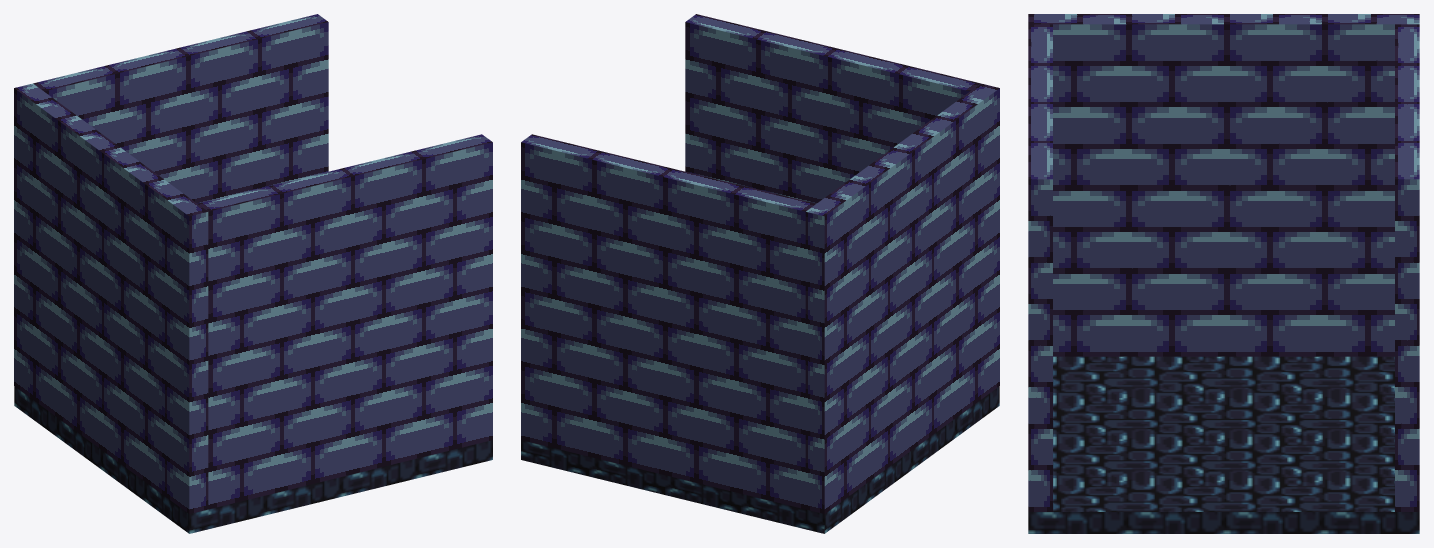
File: end.obj
3 renders of one model, left to right at view 1: azimuth 30°, elevation 25°; view 2: azimuth 150°, elevation 25°; view 3: azimuth 270°, elevation 25°, orthographic. The views are drawn at different scales.
Parts seen in each view (by area): view 1: wall, floor; view 2: wall, floor; view 3: wall, floor.
Part boxes in pixels (box(x1,y1,x2,y2)): wall: box(14, 14, 492, 513); floor: box(14, 386, 492, 533); wall: box(521, 14, 999, 513); floor: box(521, 386, 999, 533); wall: box(1028, 14, 1419, 511); floor: box(1028, 356, 1419, 533).
Size of the model in its own units: 16.01 by 16 by 16.
Materials: 2 (2 with a texture image).
